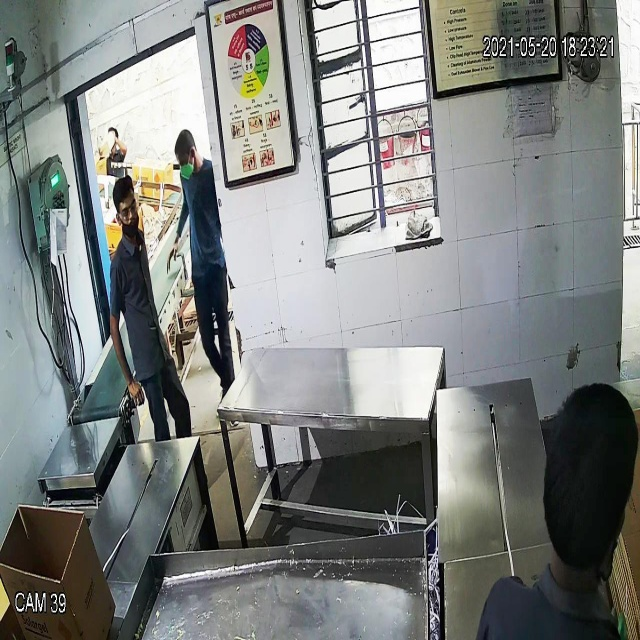Gafas: (114, 202, 141, 227)
